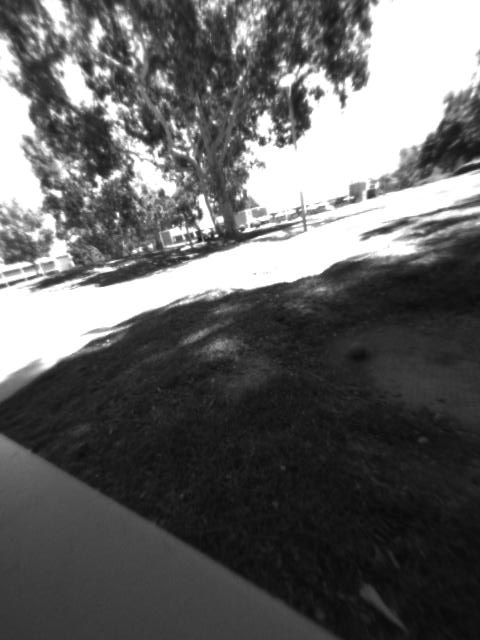dogtoy: (338, 333, 382, 369)
